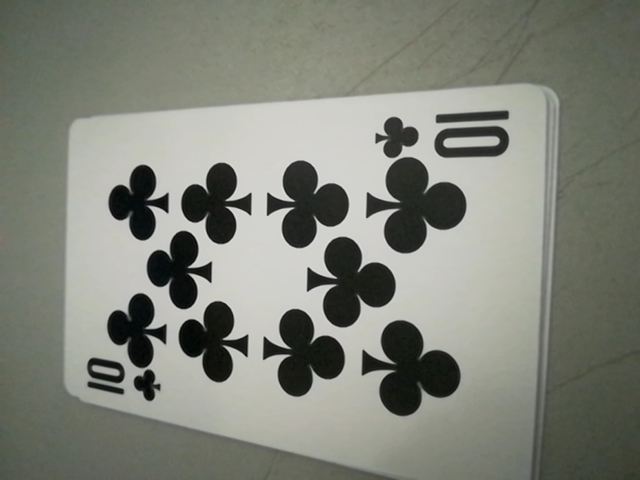mh 10: (374, 101, 520, 162), (78, 358, 164, 410)
